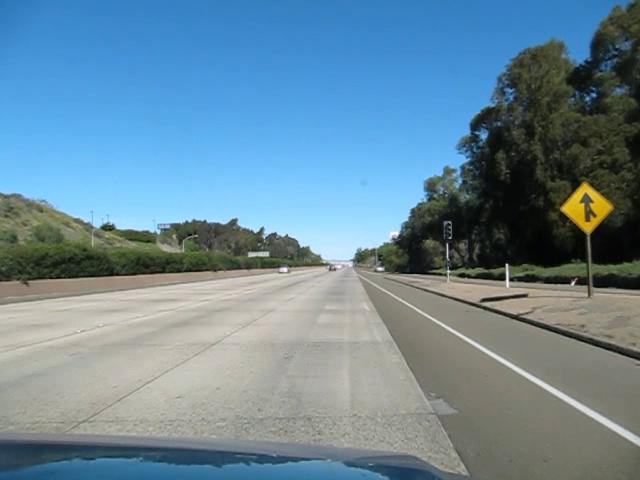merge: (559, 180, 614, 234)
